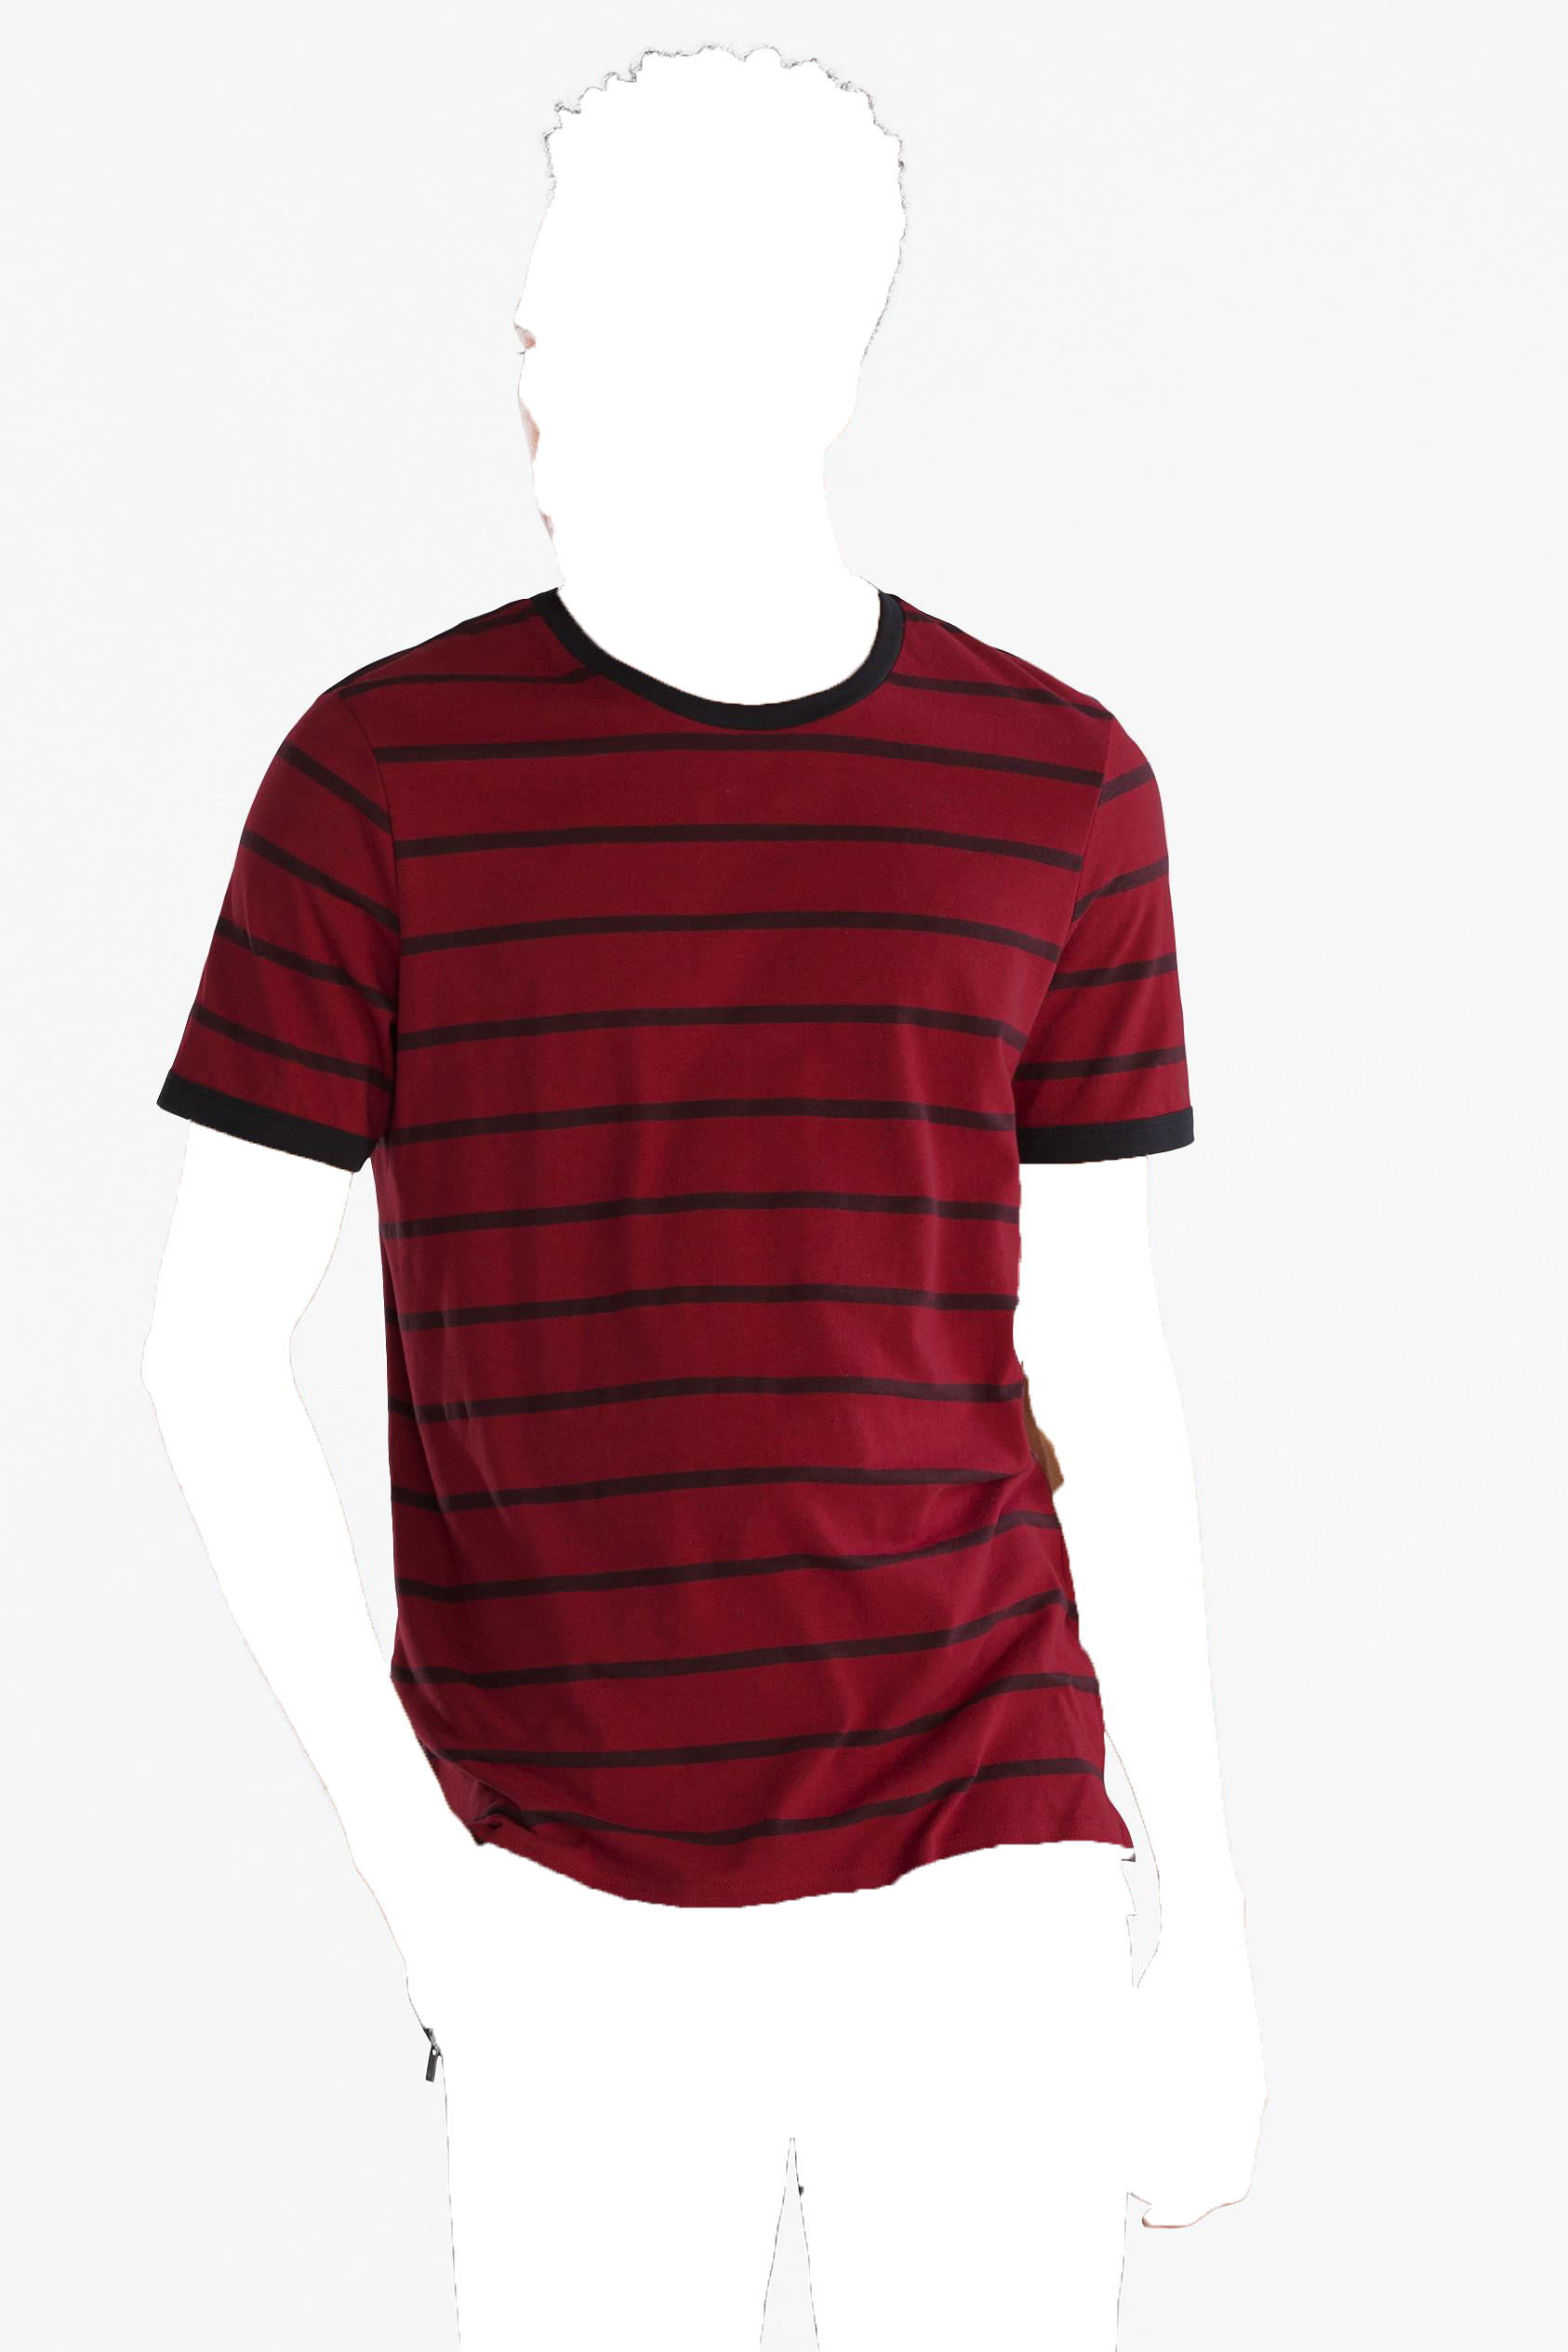teeshirt: (142, 583, 1228, 1913)
